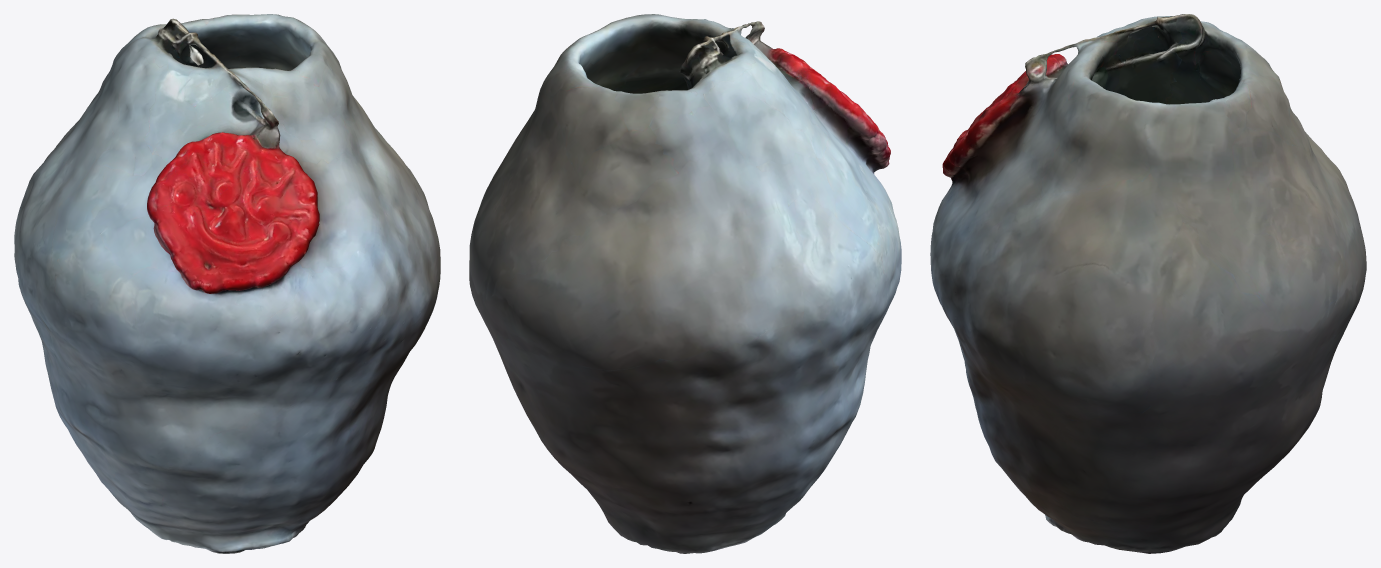
Rendered from panal-abejas.glb.
The picture shows the model from 3 angles, left to right: view 1: azimuth 30°, elevation 25°; view 2: azimuth 150°, elevation 25°; view 3: azimuth 270°, elevation 25°; orthographic projection.
Visible parts, largest first — view 1: submesh; view 2: submesh; view 3: submesh.
Boxes of the visible parts, left/top/right/bottom form: submesh: left=14, top=14, right=440, bottom=553; submesh: left=469, top=14, right=901, bottom=553; submesh: left=930, top=14, right=1366, bottom=553.
Bounding box in the file's own units: 0.1607 × 0.2028 × 0.1624.
Materials: 1 (1 with a texture image).
